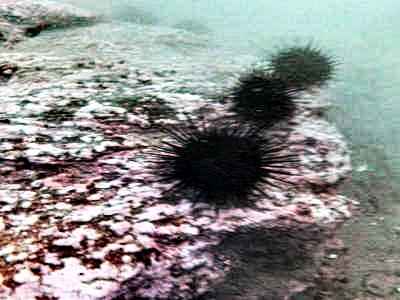urchin: (159, 119, 300, 214), (230, 72, 298, 132), (270, 44, 338, 92)
